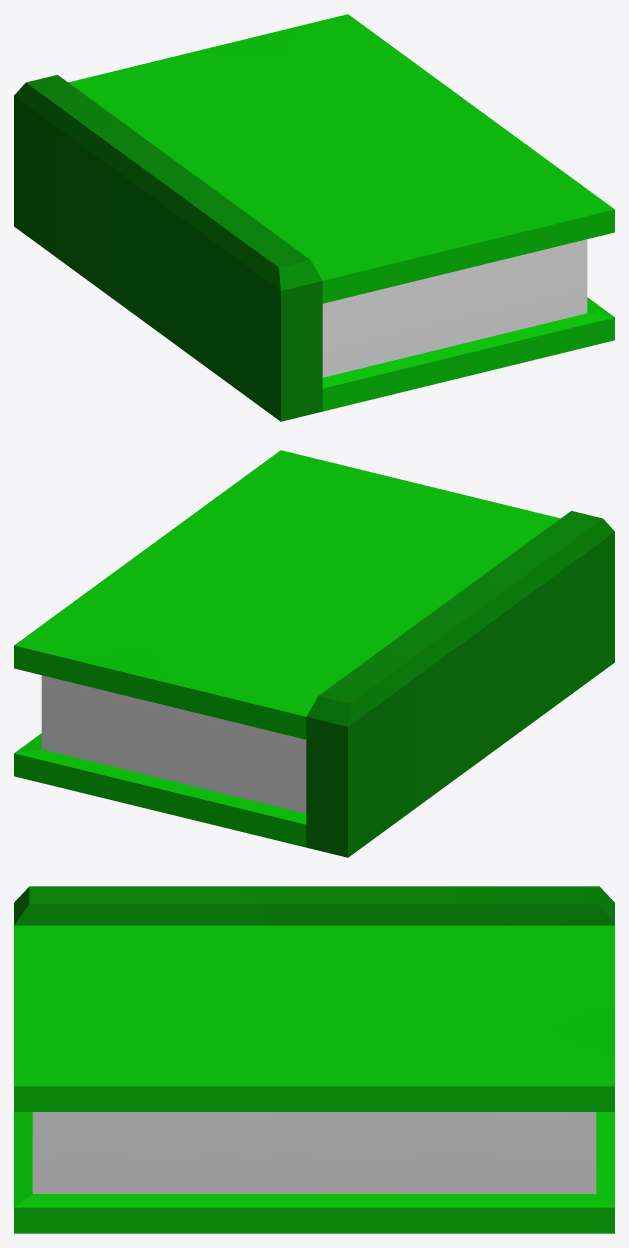
The model's file is LivroVerde.fbx.
3 renders of one model, top to bottom at view 1: azimuth 30°, elevation 25°; view 2: azimuth 150°, elevation 25°; view 3: azimuth 270°, elevation 25°, orthographic. The views are drawn at different scales.
Visible parts, largest first — view 1: LivroVerde; view 2: LivroVerde; view 3: LivroVerde.
Boxes of the visible parts, x1,y1,x2,y2 form: LivroVerde: (14, 14, 614, 421); LivroVerde: (14, 450, 614, 857); LivroVerde: (14, 886, 614, 1233).
Size of the model in its own units: 49.87 by 21.07 by 69.
